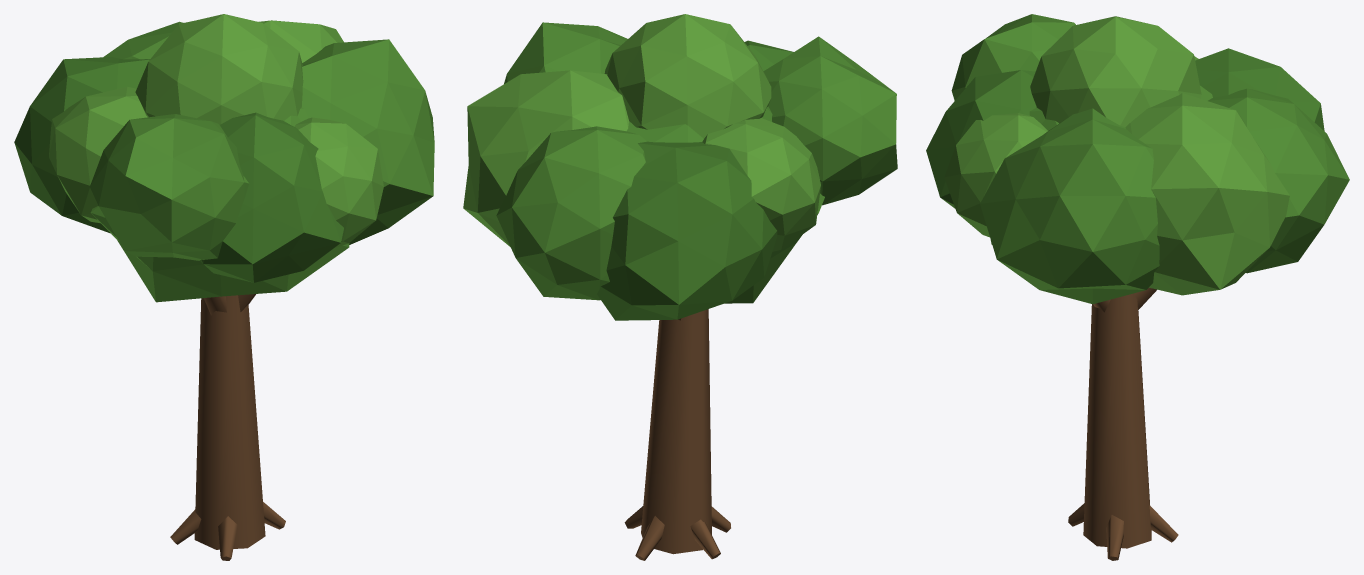
File: tree_oak_1.glb
3 renders of one model, left to right at view 1: azimuth 30°, elevation 25°; view 2: azimuth 150°, elevation 25°; view 3: azimuth 270°, elevation 25°, orthographic. The views are drawn at different scales.
Visible parts, largest first — view 1: crown, trunk; view 2: crown, trunk; view 3: crown, trunk.
Part boxes in pixels (x1,y1,x2,y2): crown: [14, 14, 434, 302]; trunk: [170, 294, 285, 560]; crown: [463, 14, 897, 320]; trunk: [624, 309, 730, 560]; crown: [926, 14, 1349, 304]; trunk: [1068, 287, 1178, 560].
Bounding box in the file's own units: 2.19 × 3.03 × 2.25.
